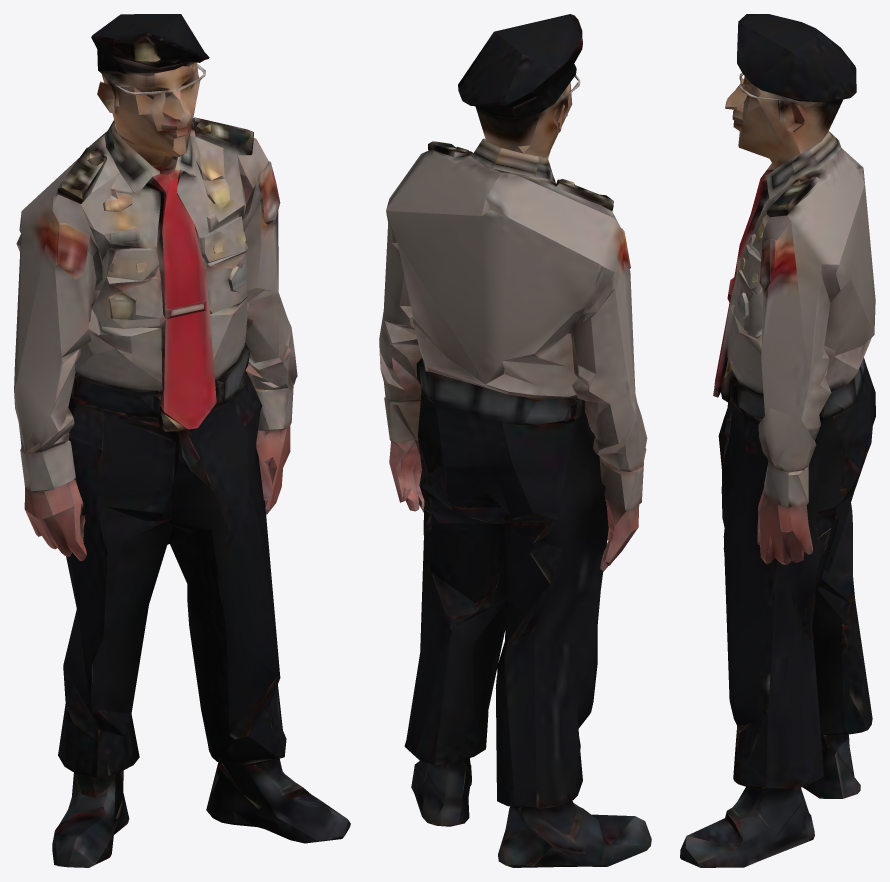
Rendered from pamobvit_idle_lod2.glb.
The picture shows the model from 3 angles, left to right: view 1: azimuth 30°, elevation 25°; view 2: azimuth 150°, elevation 25°; view 3: azimuth 270°, elevation 25°; orthographic projection. The views are drawn at different scales.
Visible parts, largest first — view 1: tripo_node_b2acd53e; view 2: tripo_node_b2acd53e; view 3: tripo_node_b2acd53e.
Part boxes in pixels (x1,y1,x2,y2): tripo_node_b2acd53e: (14, 14, 350, 867); tripo_node_b2acd53e: (379, 14, 651, 867); tripo_node_b2acd53e: (680, 14, 875, 867).
Size of the model in its own units: 34.78 by 99.2 by 22.66.
Materials: 1 (1 with a texture image).
